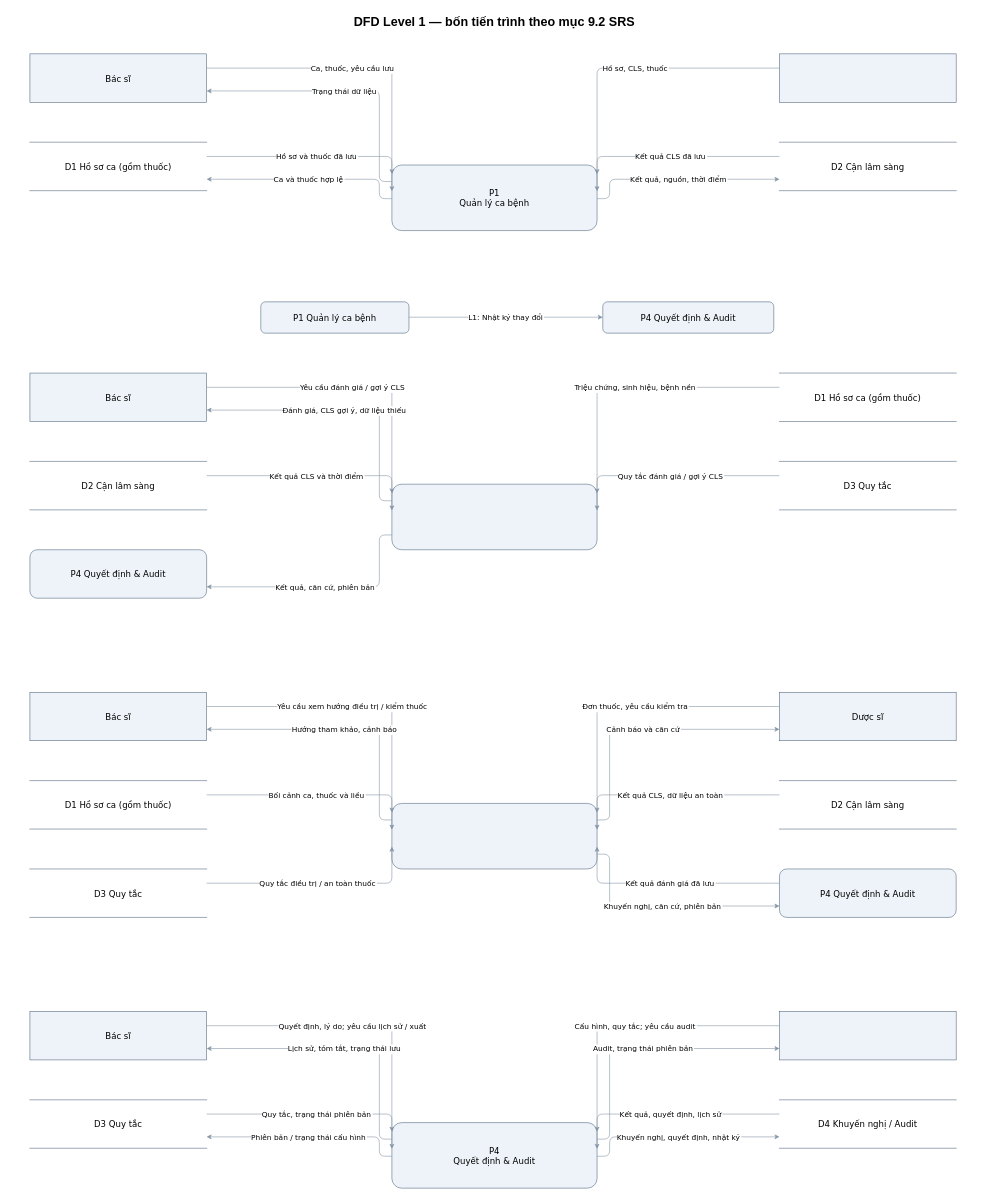
This 988x1198 diagram has some shape labels left out. The shapes that lost their labels are listed below. From the top down, each one's centre as x and y in pixels, then its label:
point 867,77: Nguồn synthetic
point 494,517: P2 Diagnosis & Lab/Test
point 494,836: P3 Treatment & MedSafety
point 867,1035: Quản trị viên
